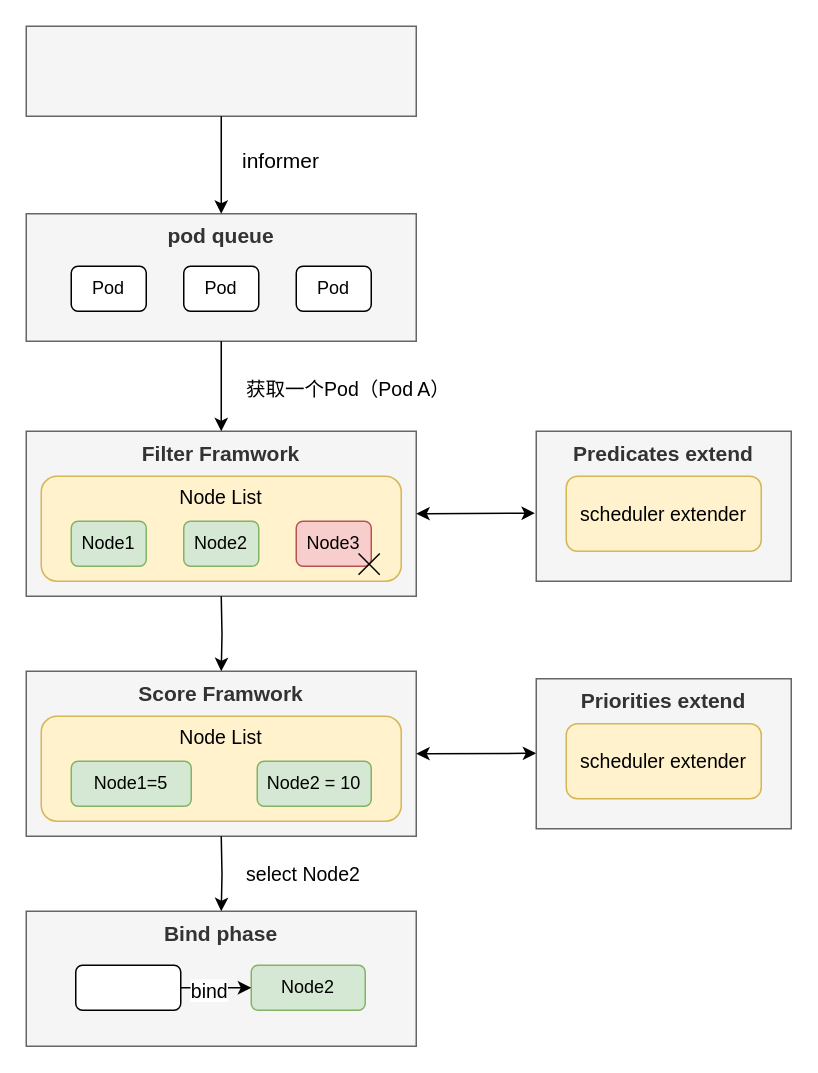
Image size: 818x1073. Some labels were removed from this diagram. The centre of each missing label's shape, as x and y in pixels:
"kube-apiserver" belongs at (220,70).
"Pod A" belongs at (127,987).
